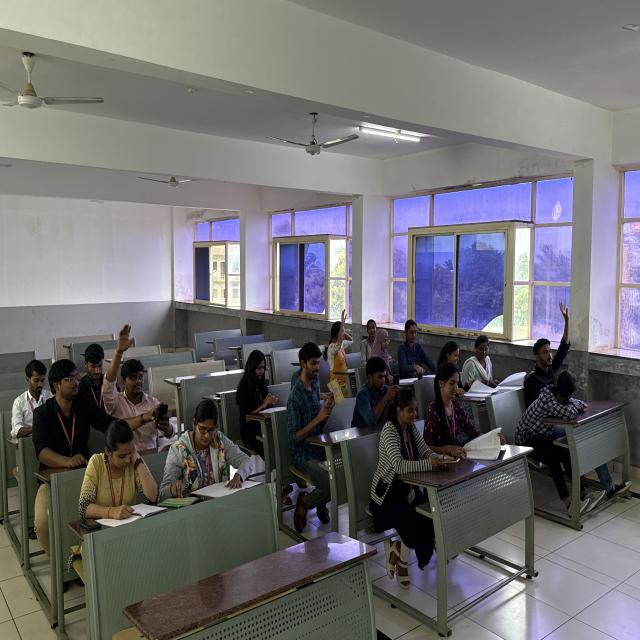Hand Rising: (519, 306, 588, 394), (322, 310, 362, 374)
Reading: (74, 418, 175, 541), (166, 401, 263, 509), (428, 369, 506, 469), (106, 326, 169, 402), (437, 340, 497, 397), (371, 330, 422, 386), (468, 338, 527, 386)
Using Phone: (38, 365, 179, 477), (384, 388, 462, 484), (12, 354, 61, 438), (353, 355, 407, 421)
Writing: (235, 348, 287, 417)
